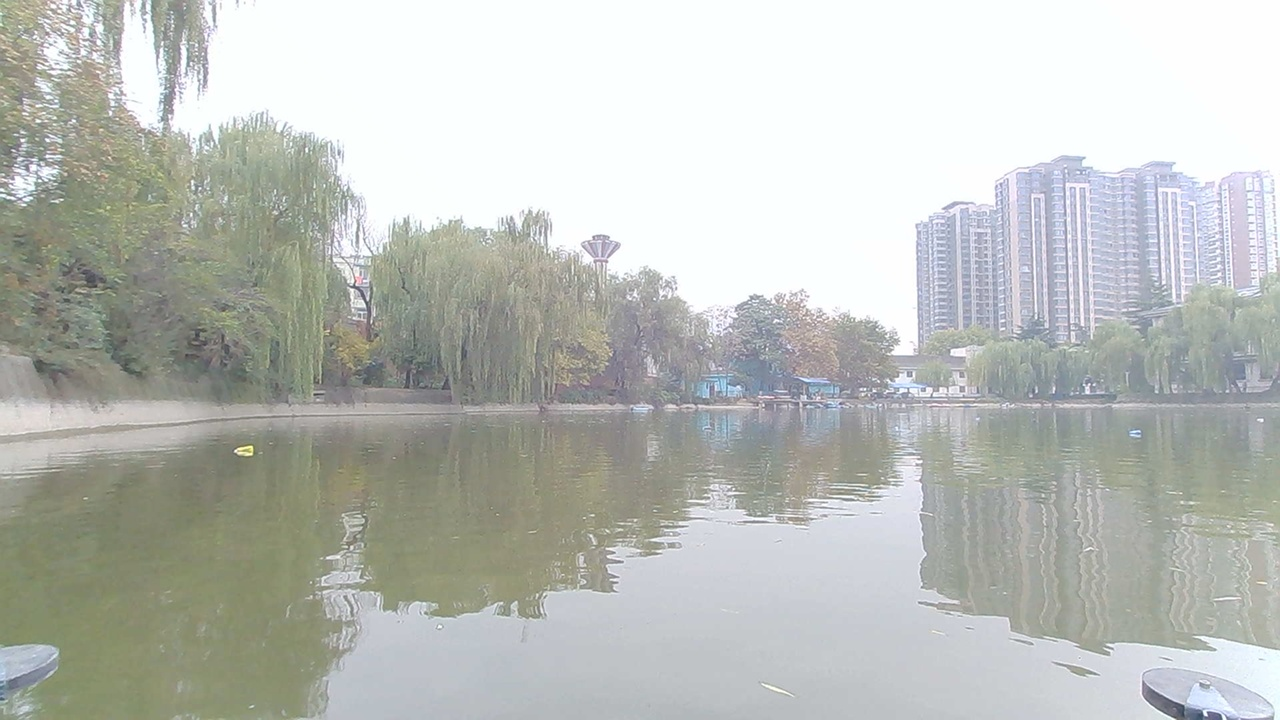bottle: (231, 438, 265, 461), (1123, 421, 1154, 444), (694, 420, 723, 435)
